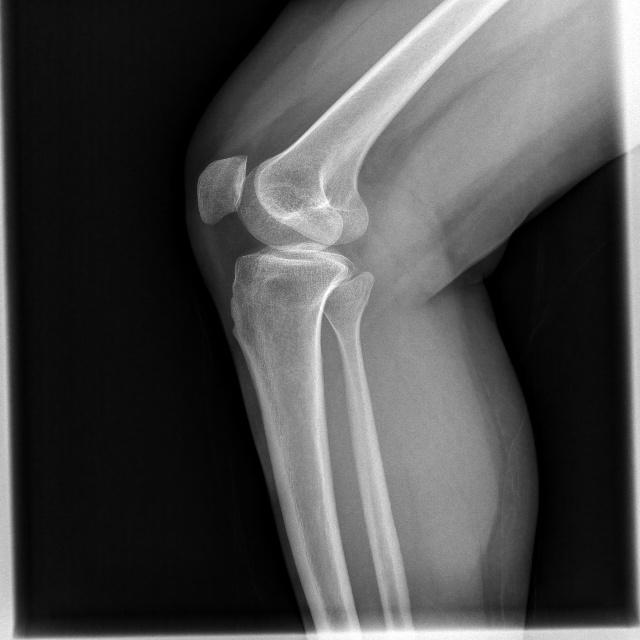Knee: (195, 154, 373, 333)
